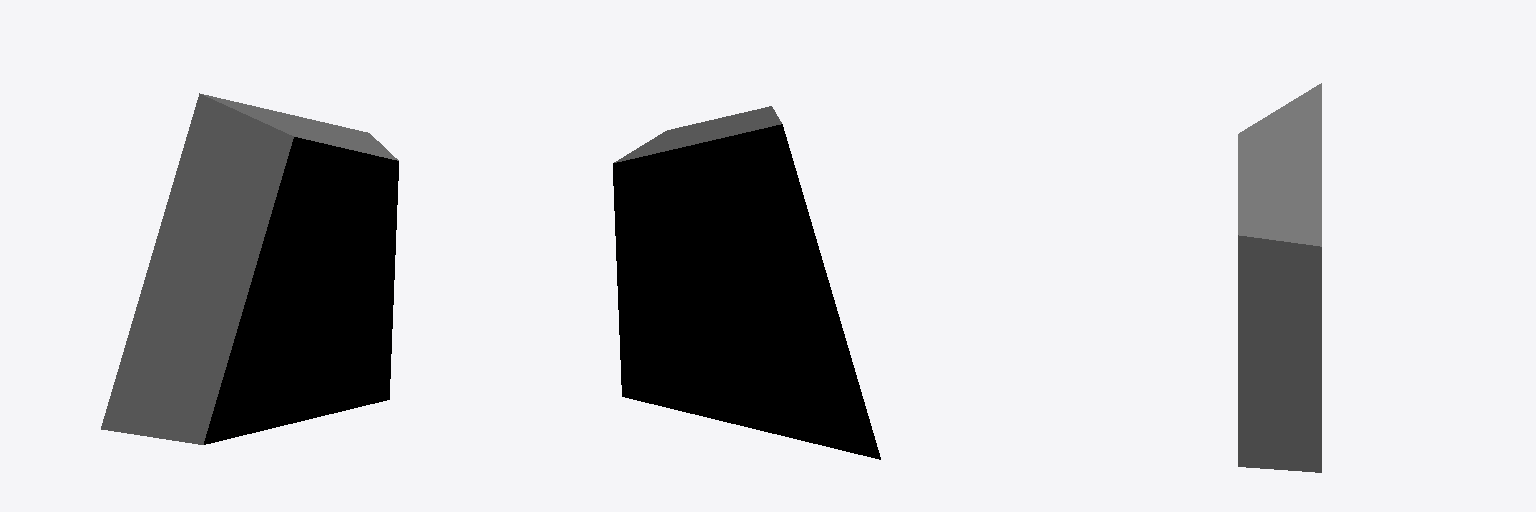
3 renders of one model, left to right at view 1: azimuth 30°, elevation 25°; view 2: azimuth 150°, elevation 25°; view 3: azimuth 270°, elevation 25°, orthographic.
Parts seen in each view (by area): view 1: shard3_solidShatter1; view 2: shard3_solidShatter1; view 3: shard3_solidShatter1.
Part boxes in pixels (x1,y1,x2,y2): shard3_solidShatter1: (101, 93, 398, 444); shard3_solidShatter1: (613, 106, 880, 459); shard3_solidShatter1: (1238, 83, 1321, 472).
Bounding box in the file's own units: 6.67 × 7.4 × 1.8.